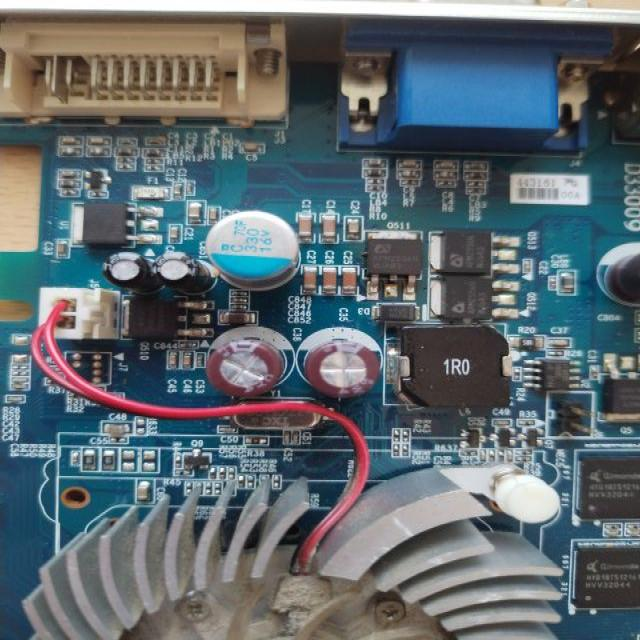capacitor: (315, 207, 341, 246), (329, 264, 353, 306), (180, 196, 207, 228), (295, 259, 317, 298), (316, 264, 339, 301), (97, 426, 137, 446), (136, 484, 158, 516), (294, 212, 314, 245), (198, 206, 220, 234), (163, 346, 182, 378), (350, 212, 364, 245), (55, 234, 71, 262), (398, 156, 423, 172), (436, 160, 461, 174), (61, 132, 82, 145), (178, 354, 193, 371), (362, 154, 381, 166)
resistor: (391, 428, 402, 444), (402, 428, 412, 442), (399, 446, 411, 457), (392, 447, 398, 456)
